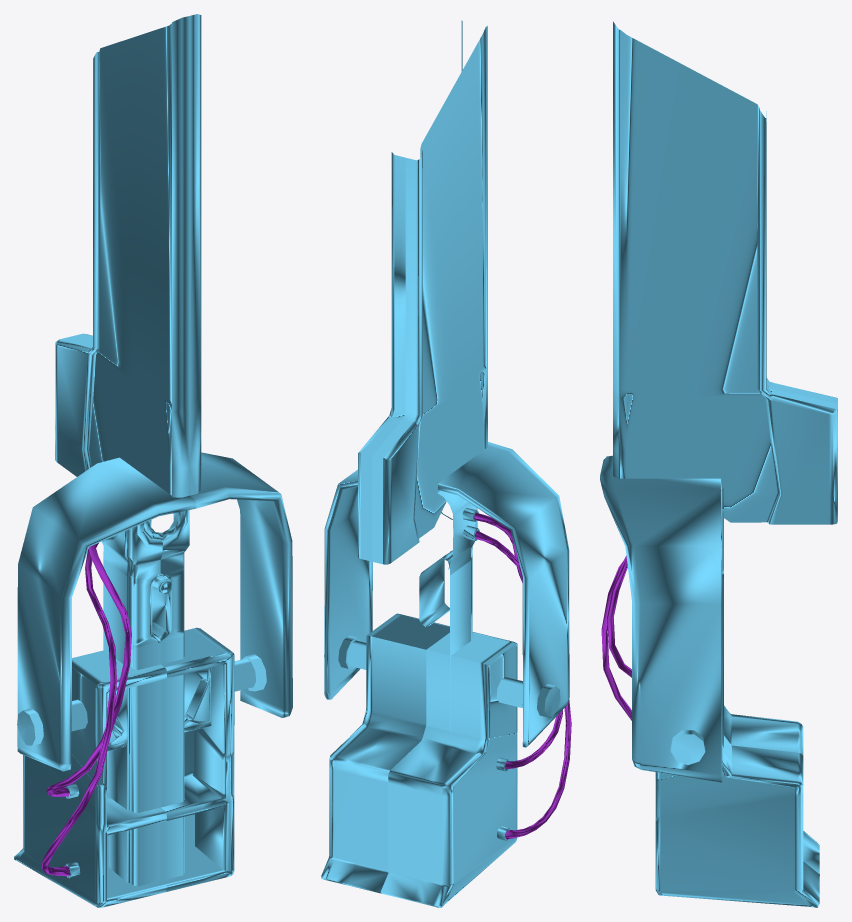
File: WallFixture_clean_deluxe_deco_uee_01.glb
The picture shows the model from 3 angles, left to right: view 1: azimuth 30°, elevation 25°; view 2: azimuth 150°, elevation 25°; view 3: azimuth 270°, elevation 25°; orthographic projection. The views are drawn at different scales.
Bounding box in the file's own units: 2.14 × 7.49 × 1.88.
